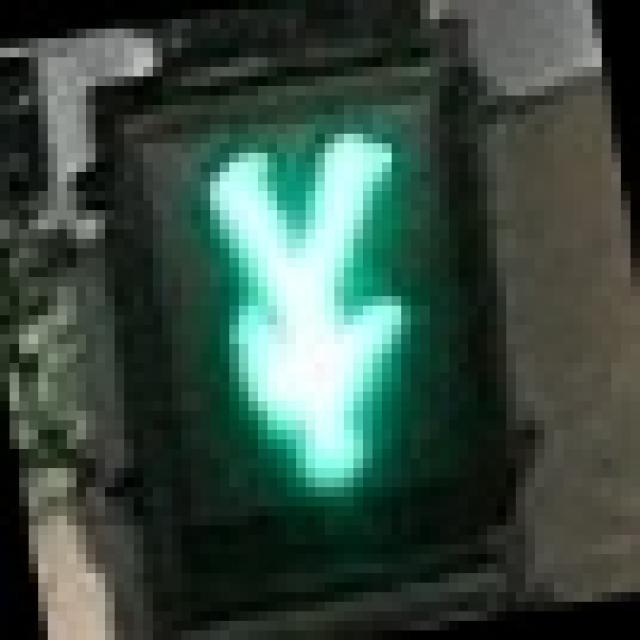green_light: (115, 67, 488, 535)
